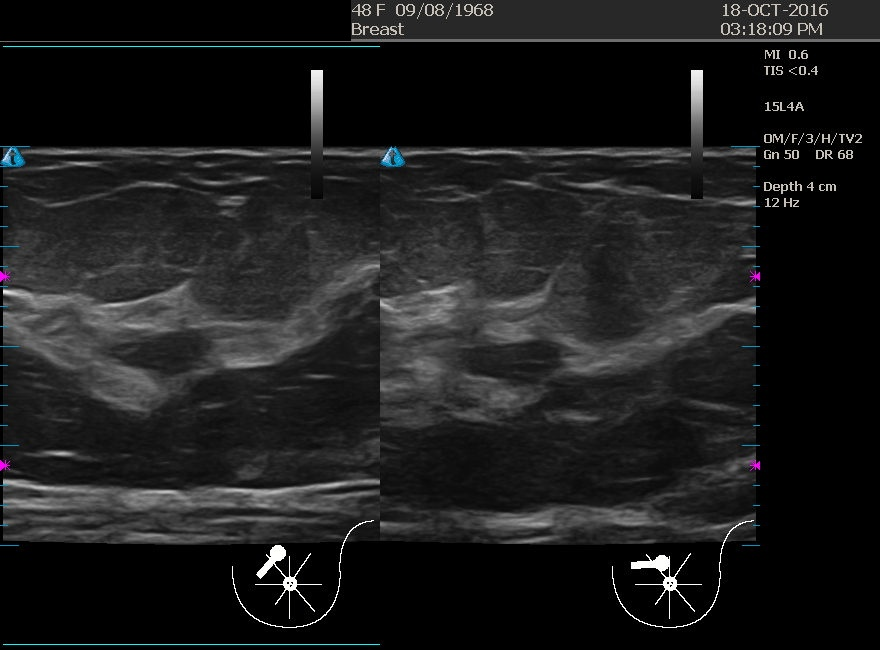BIRADS_2: (61, 253, 261, 453), (412, 272, 612, 472)
